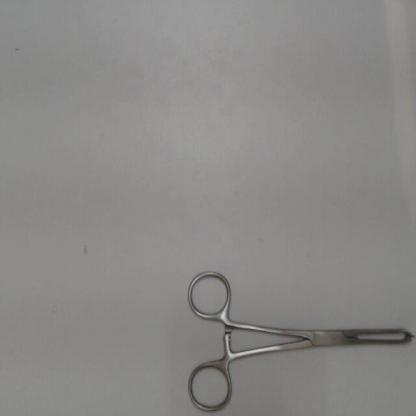Allis Tissue Forceps: (178, 261, 414, 415)
